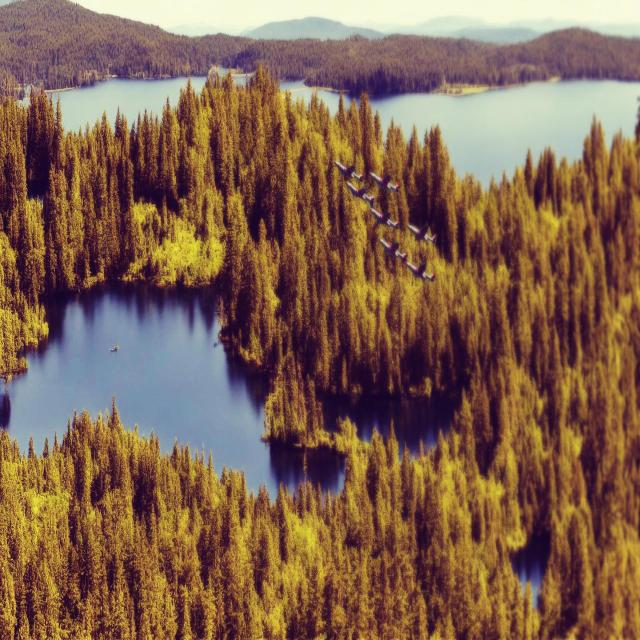airplane: (406, 258, 436, 282), (370, 170, 400, 192), (334, 159, 356, 181), (368, 205, 391, 226), (378, 237, 399, 258), (407, 222, 429, 240), (345, 180, 366, 198), (351, 170, 365, 183), (362, 193, 375, 206)
